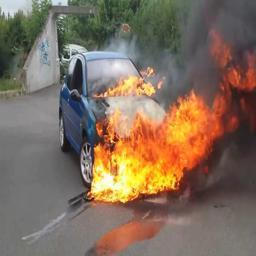fire: (85, 28, 256, 203), (91, 67, 166, 96)
